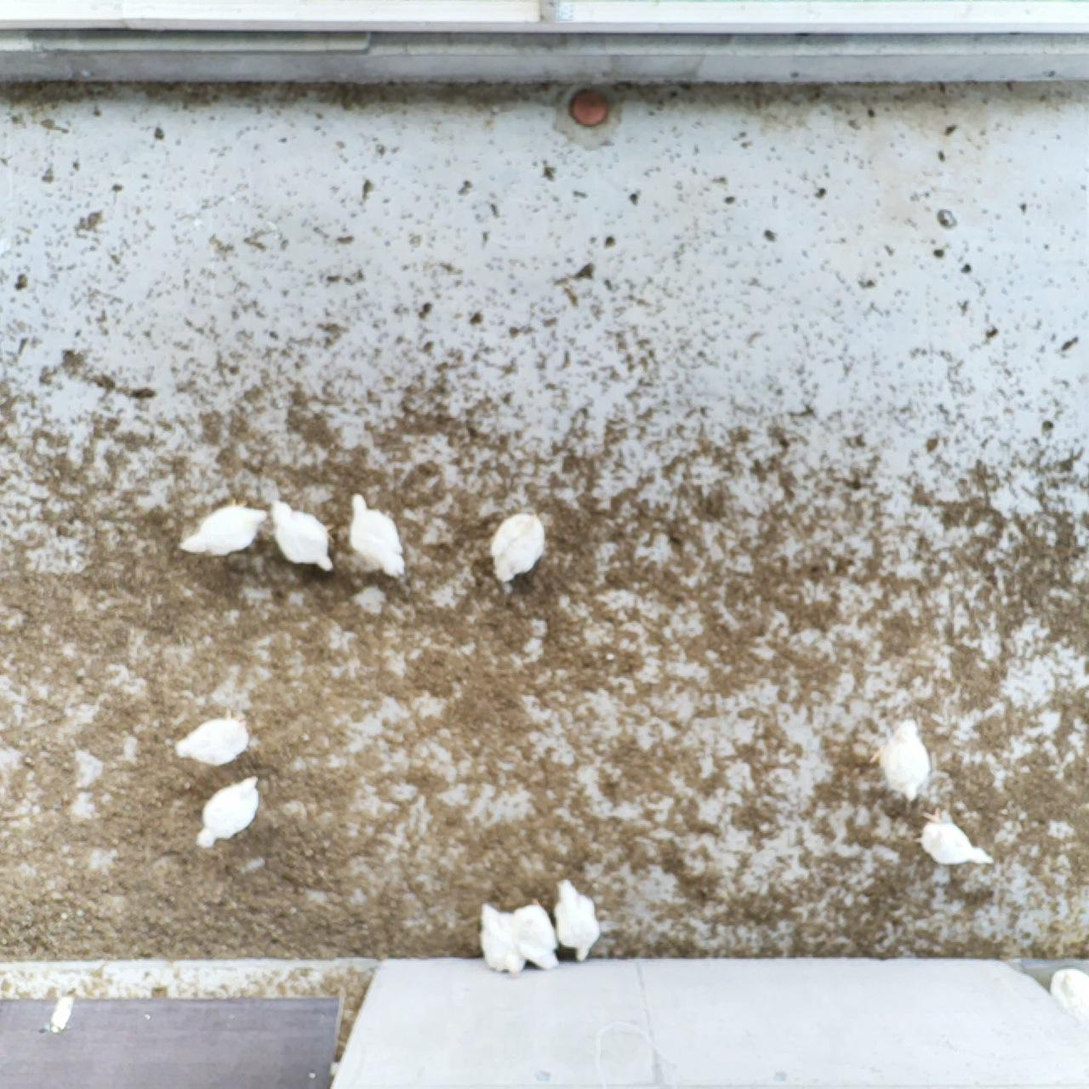chicken: (173, 493, 268, 564), (864, 714, 936, 806), (347, 489, 411, 582), (191, 770, 264, 851), (915, 804, 998, 875), (267, 496, 340, 576), (171, 703, 255, 770), (549, 873, 606, 966), (484, 509, 551, 587), (507, 894, 566, 973), (474, 899, 530, 975)
